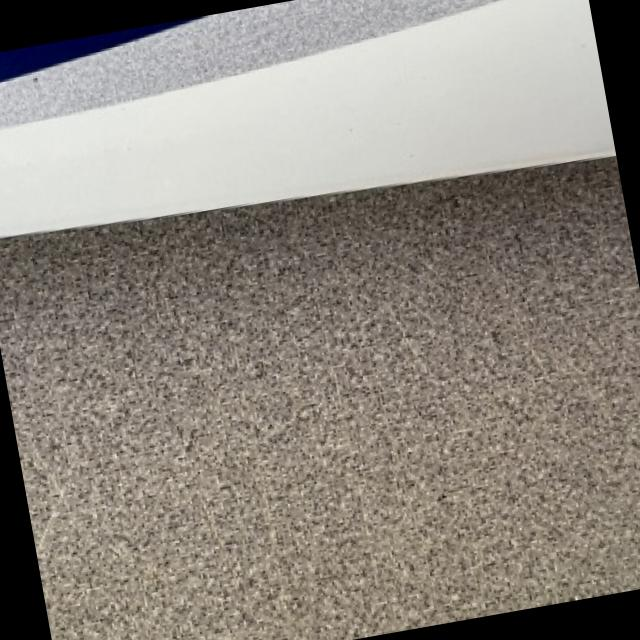healthy: (0, 156, 640, 640), (0, 0, 613, 234)
